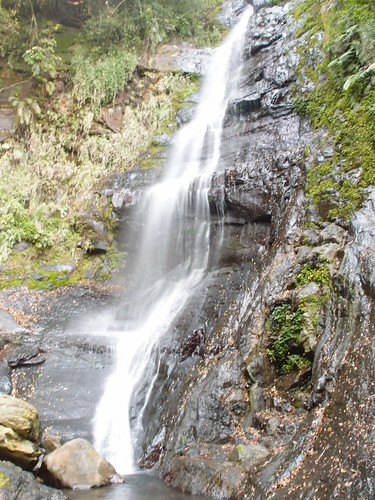wufengciWaterfall: (101, 9, 273, 442)
